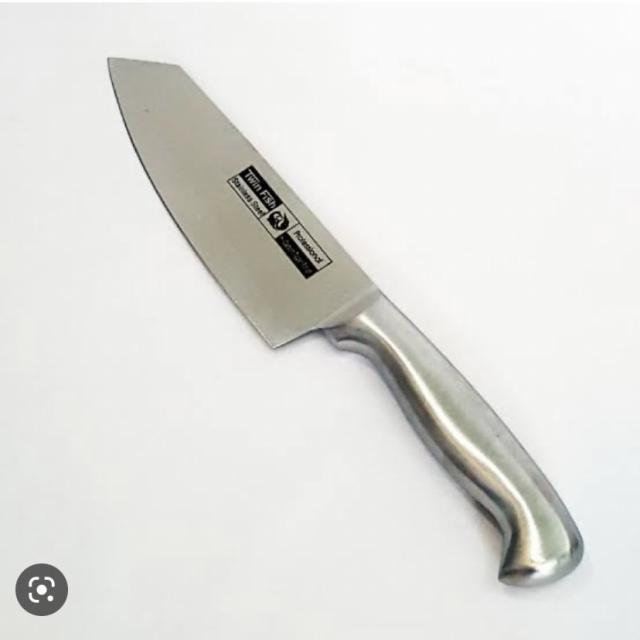Knife: (105, 32, 594, 603)
